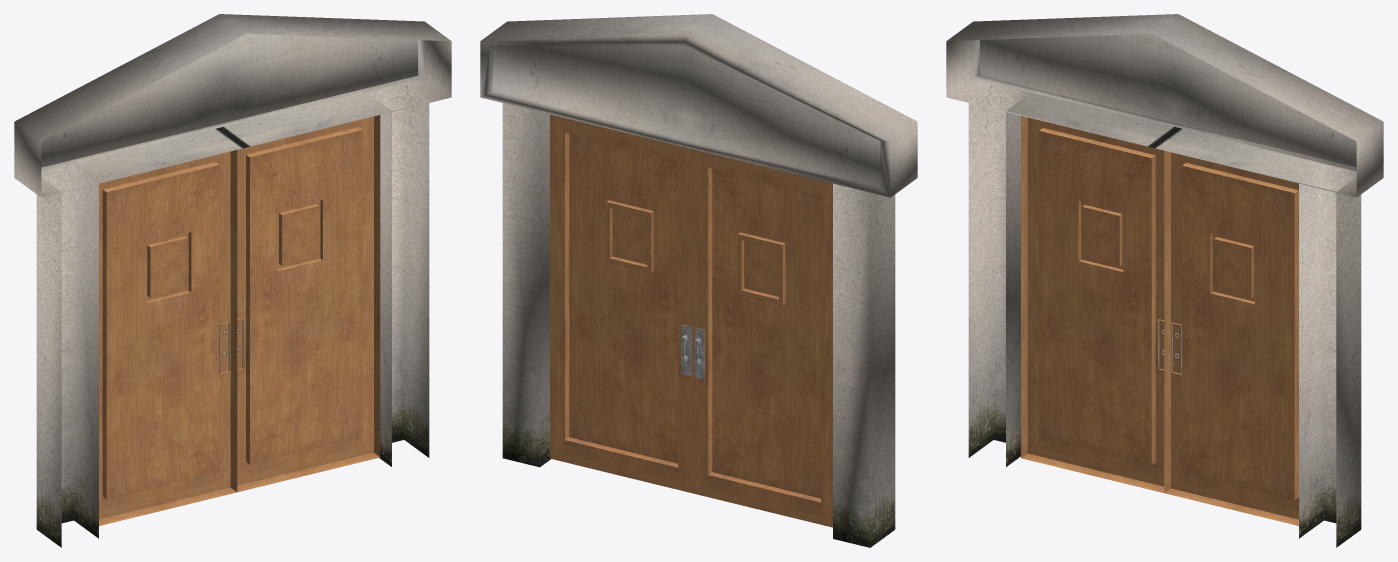
The model's file is Entrance door.obj.
3 views of the same model, side by side, from view 1: azimuth 30°, elevation 25°; view 2: azimuth 150°, elevation 25°; view 3: azimuth 330°, elevation 25° (orthographic).
Visible parts, largest first — view 1: porta_Plane.006, Double_staircase_door_Plane.005; view 2: porta_Plane.006, Double_staircase_door_Plane.005; view 3: porta_Plane.006, Double_staircase_door_Plane.005.
Boxes of the visible parts, box(x1,y1,x2,y2) form: porta_Plane.006: box(99, 115, 380, 525); Double_staircase_door_Plane.005: box(14, 14, 451, 547); porta_Plane.006: box(550, 114, 832, 527); Double_staircase_door_Plane.005: box(480, 14, 917, 547); porta_Plane.006: box(1021, 116, 1298, 525); Double_staircase_door_Plane.005: box(946, 14, 1383, 547).
Size of the model in its own units: 2.78 by 3.04 by 0.3164.
